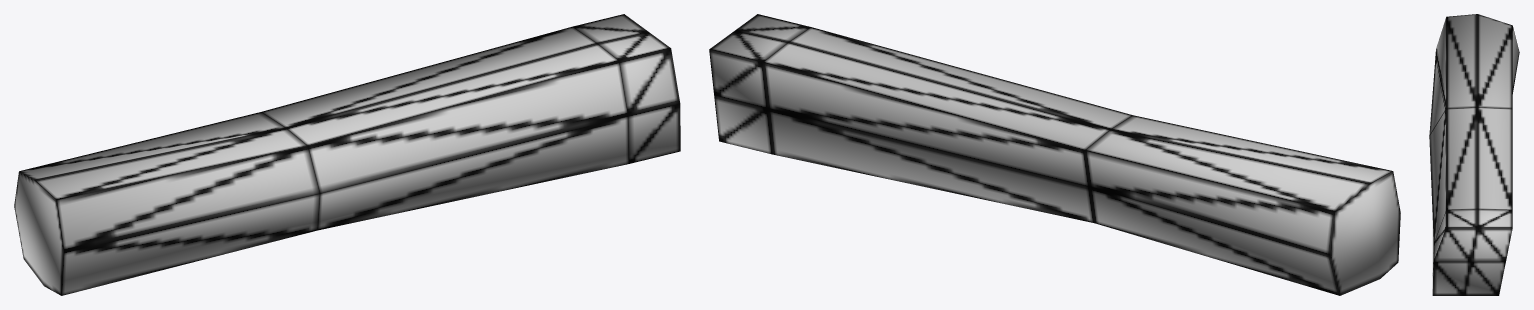
The model's file is playerRarm.obj.
The picture shows the model from 3 angles, left to right: view 1: azimuth 30°, elevation 25°; view 2: azimuth 150°, elevation 25°; view 3: azimuth 270°, elevation 25°; orthographic projection. The views are drawn at different scales.
Parts seen in each view (by area): view 1: 立方体.002; view 2: 立方体.002; view 3: 立方体.002.
Part boxes in pixels (bbox=[...]): 立方体.002: bbox=[14, 14, 680, 295]; 立方体.002: bbox=[709, 14, 1400, 295]; 立方体.002: bbox=[1429, 14, 1519, 295].
Bounding box in the file's own units: 0.7021 × 0.1082 × 0.126.
1 material, 1 textured.
